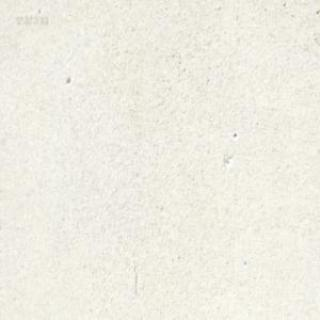Wrenchtrack_idkeyframe: (128, 0, 134, 4)
